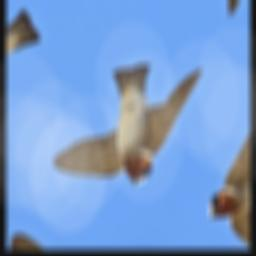Swallow: (47, 31, 207, 206)
